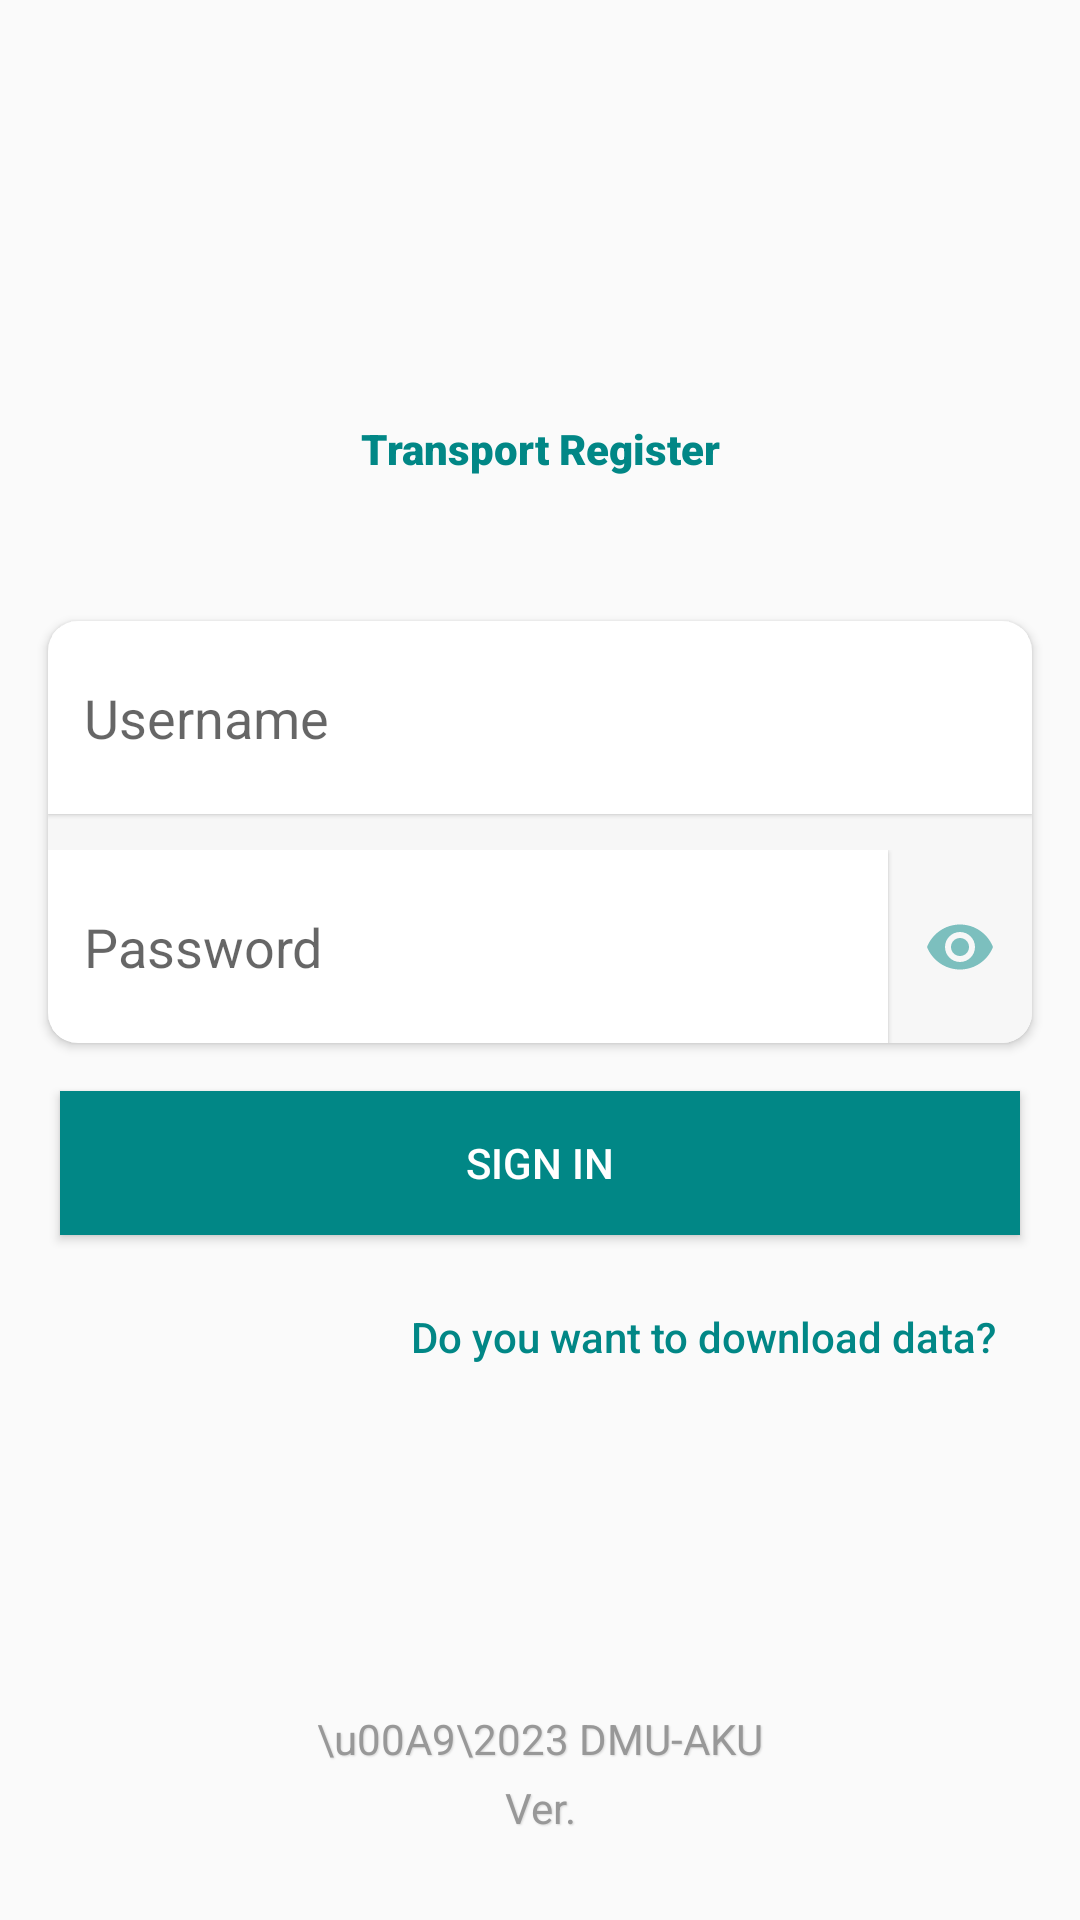

Point at icon controls on the screen. Image size 1080 x 1920, points as (x=x, y=y).
login eye: (x=960, y=947)
